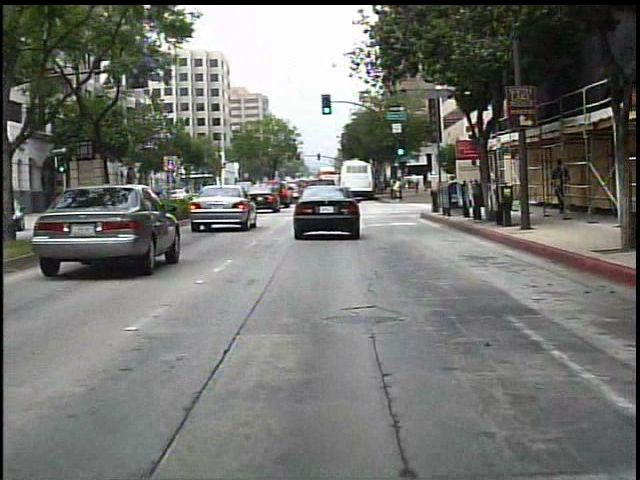person: (546, 155, 577, 222)
